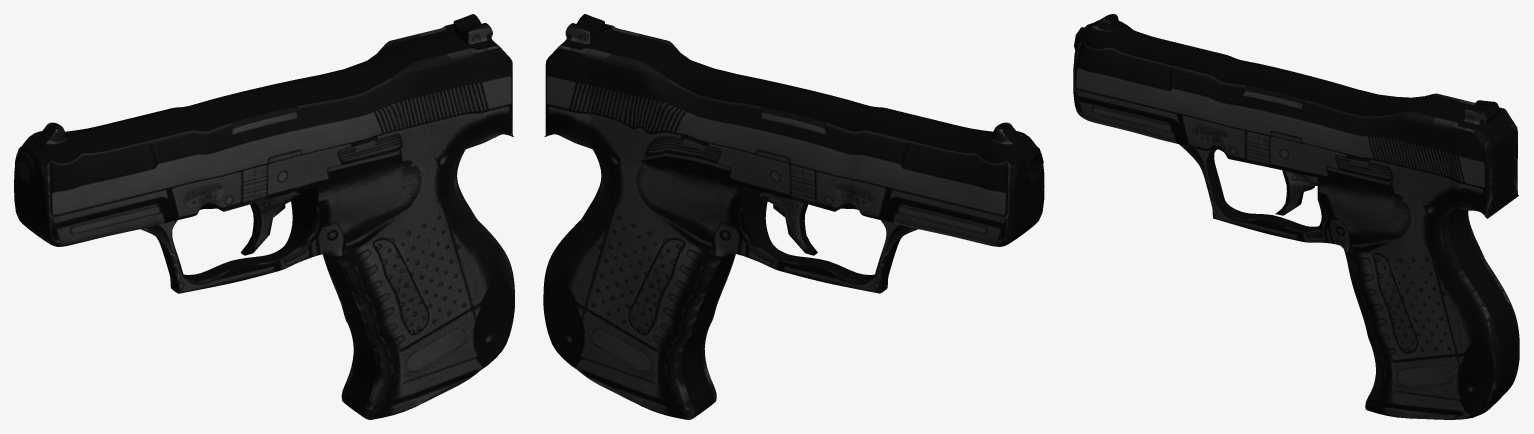
Rendered from Gun(WeirdLooking).fbx.
3 views of the same model, side by side, from view 1: azimuth 30°, elevation 25°; view 2: azimuth 150°, elevation 25°; view 3: azimuth 330°, elevation 25° (orthographic). The views are drawn at different scales.
Visible parts, largest first — view 1: Gun_MP; view 2: Gun_MP; view 3: Gun_MP.
Boxes of the visible parts, bbox=[...] form: Gun_MP: bbox=[14, 14, 514, 419]; Gun_MP: bbox=[543, 14, 1044, 419]; Gun_MP: bbox=[1073, 14, 1519, 419].
Bounding box in the file's own units: 30.26 × 21.82 × 3.88.
